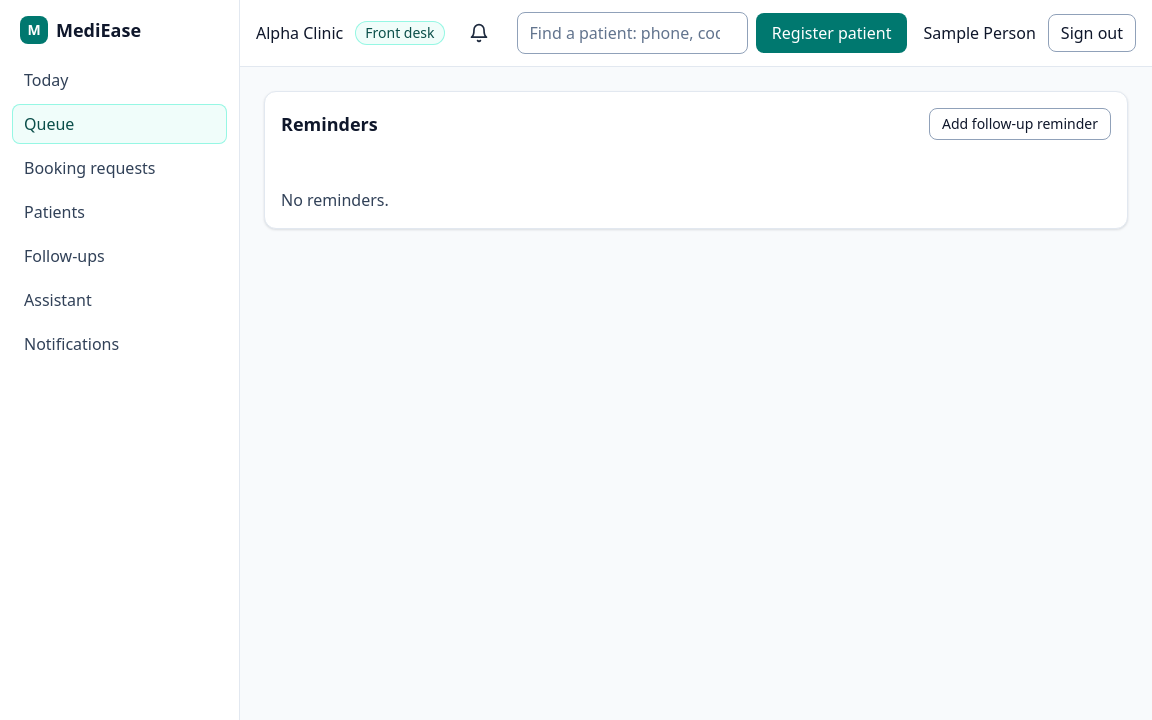
Scenario: reminders on the profile (M5-P6 decision 3A; FR-REM-02, 05) › FR-REM-02: staff add a reminder with a doctor and a date, and it is listed
The width and height of the screenshot is (1152, 720).
Click the button "Add follow-up reminder" at (1020, 124), box [929,108,1111,140]
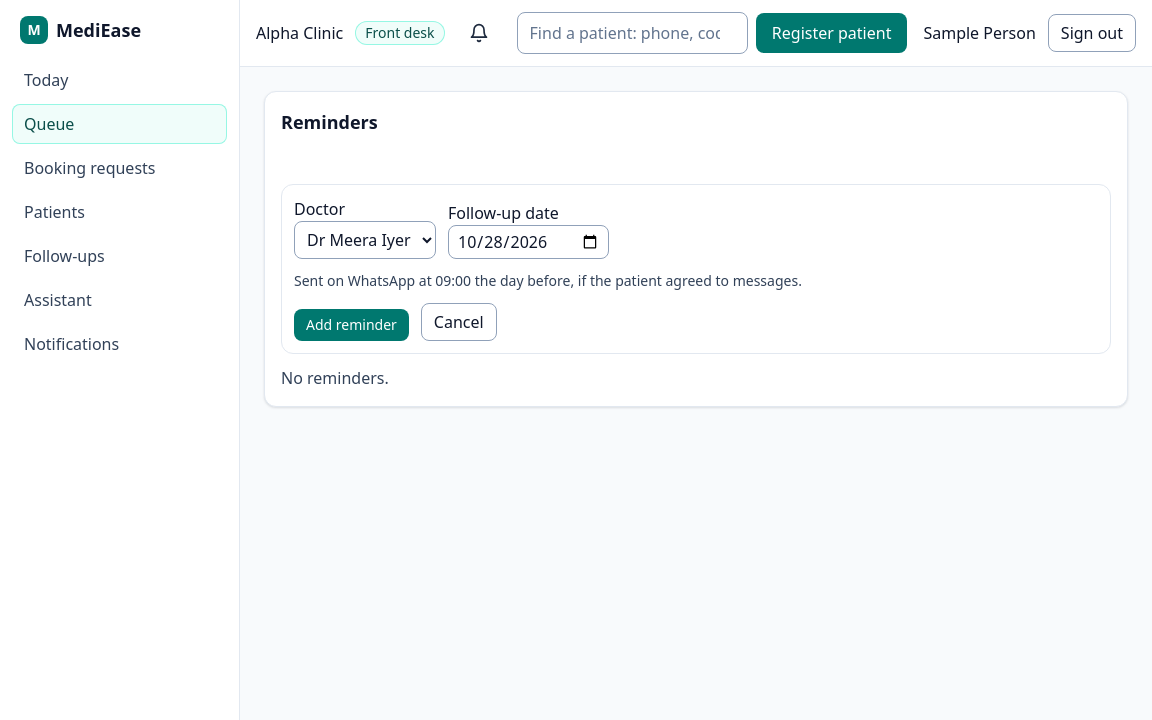
Type "2099-01-15" into the date field labelled "Follow-up date" at (528, 242), box [448,225,609,259]
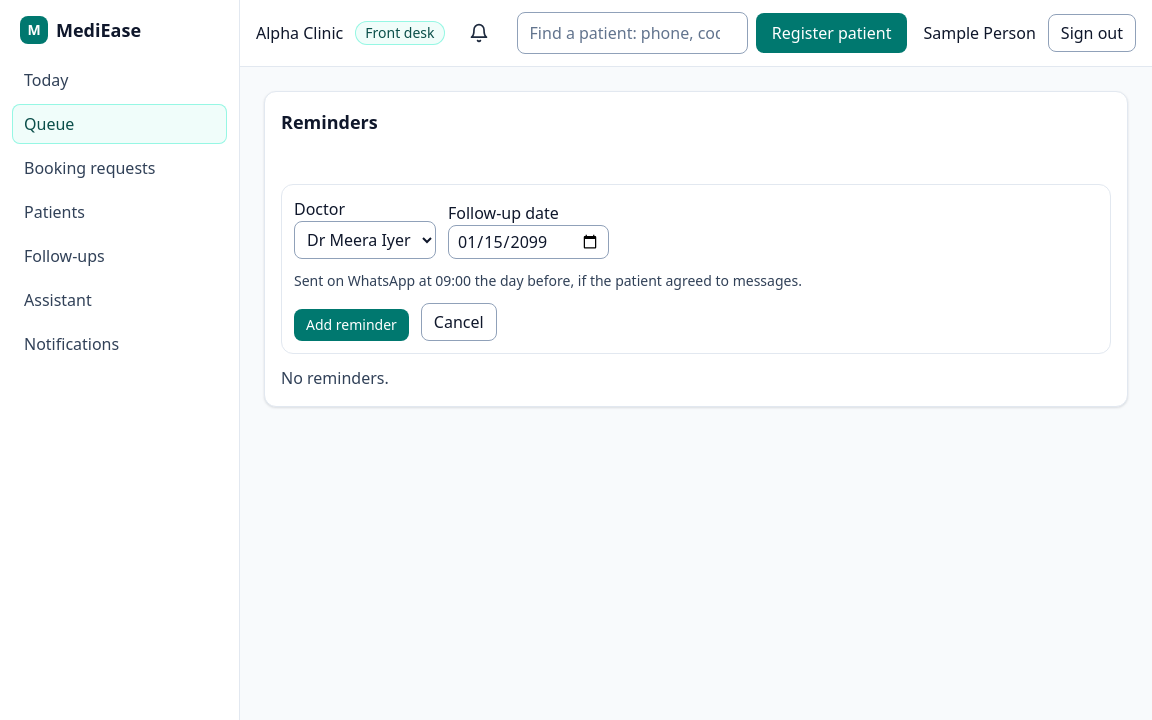
Click the button "Add reminder" at (351, 325), box [294,309,409,341]
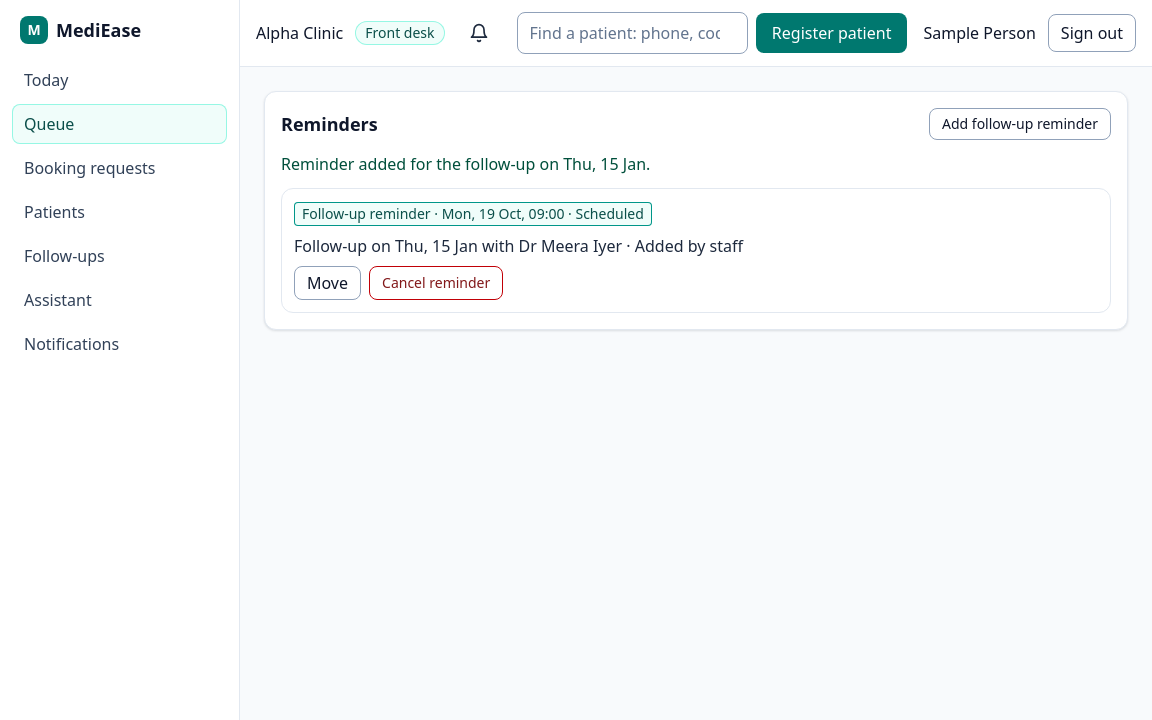
expect the text "Reminder added for the follow-up on Thu, 15 Jan." is shown: met, box [281,153,650,175]
expect the text "Follow-up on Thu, 15 Jan with Dr Meera Iyer · Added by staff" is shown: met, box [294,235,743,257]
